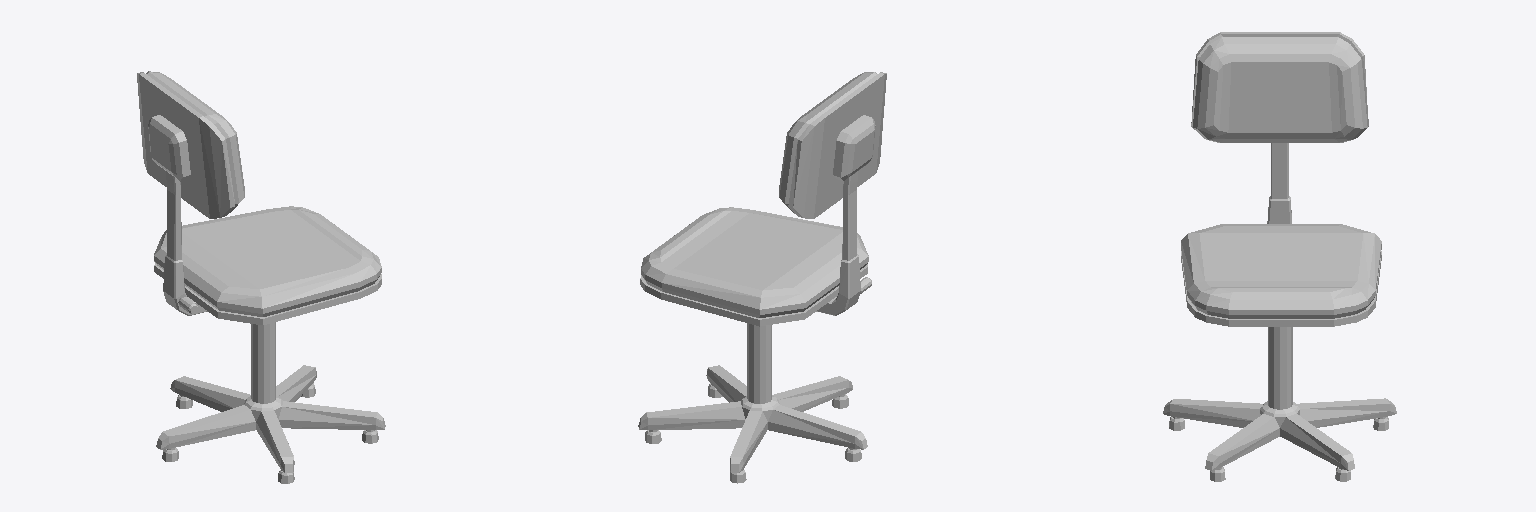
File: chair.obj
3 renders of one model, left to right at view 1: azimuth 30°, elevation 25°; view 2: azimuth 150°, elevation 25°; view 3: azimuth 270°, elevation 25°, orthographic.
Parts seen in each view (by area): view 1: chair_Cylinder01; view 2: chair_Cylinder01; view 3: chair_Cylinder01.
Part boxes in pixels (x1,y1,x2,y2): chair_Cylinder01: (137, 71, 385, 483); chair_Cylinder01: (638, 72, 886, 483); chair_Cylinder01: (1163, 32, 1396, 481).
Size of the model in its own units: 0.5417 by 0.9616 by 0.563.